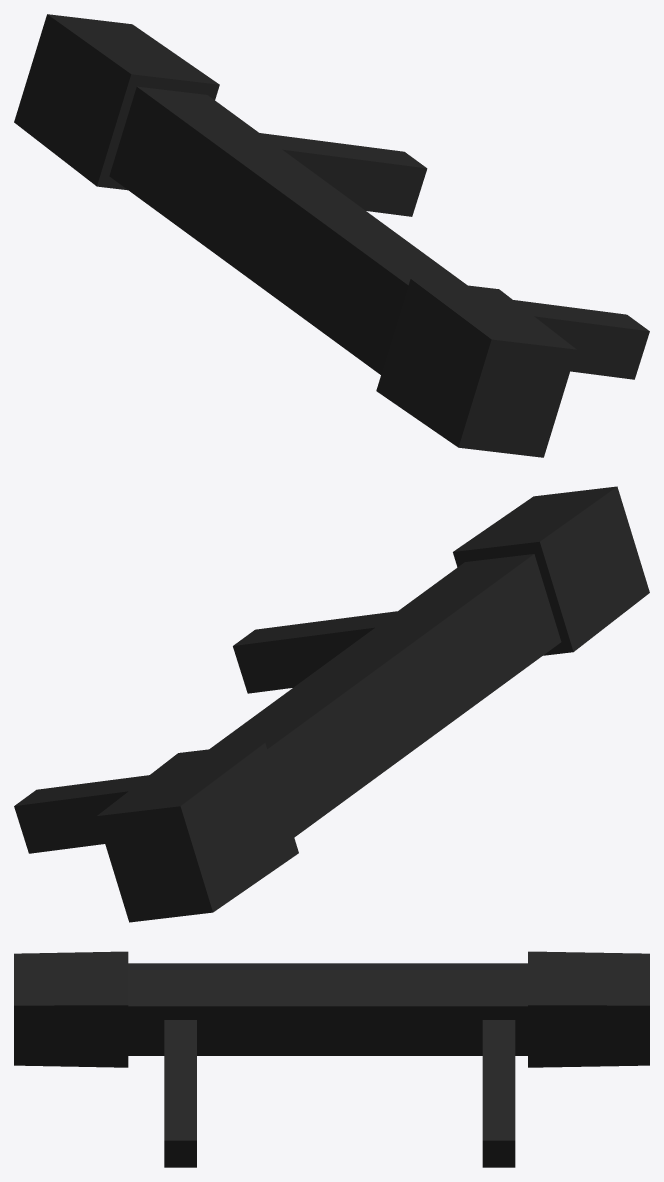
Rendered from Lever.obj.
The picture shows the model from 3 angles, top to bottom: view 1: azimuth 30°, elevation 25°; view 2: azimuth 150°, elevation 25°; view 3: azimuth 270°, elevation 25°; orthographic projection. The views are drawn at different scales.
Visible parts, largest first — view 1: Lever; view 2: Lever; view 3: Lever.
Part boxes in pixels (<box>): Lever: <box>14,14,649,457</box>; Lever: <box>14,486,649,922</box>; Lever: <box>14,951,649,1167</box>.
Size of the model in its own units: 0.3823 by 0.2204 by 0.9849.
Materials: 1 (1 with a texture image).
